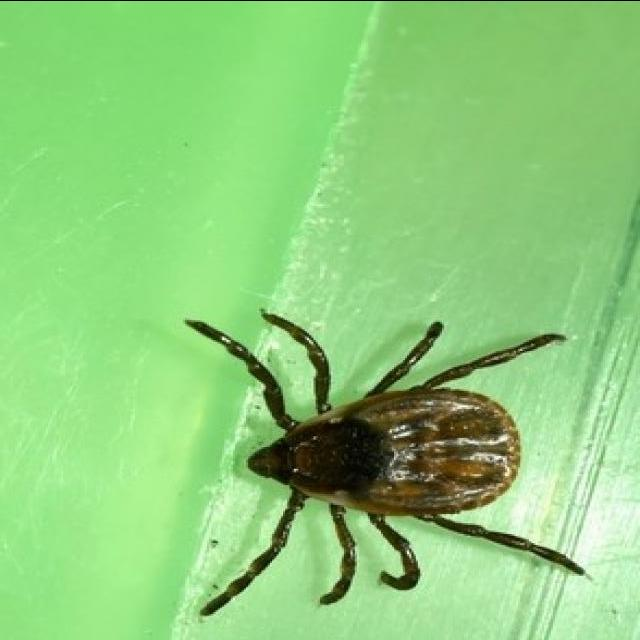Rhipicephalus Sanguineus-F: (183, 312, 588, 618)
